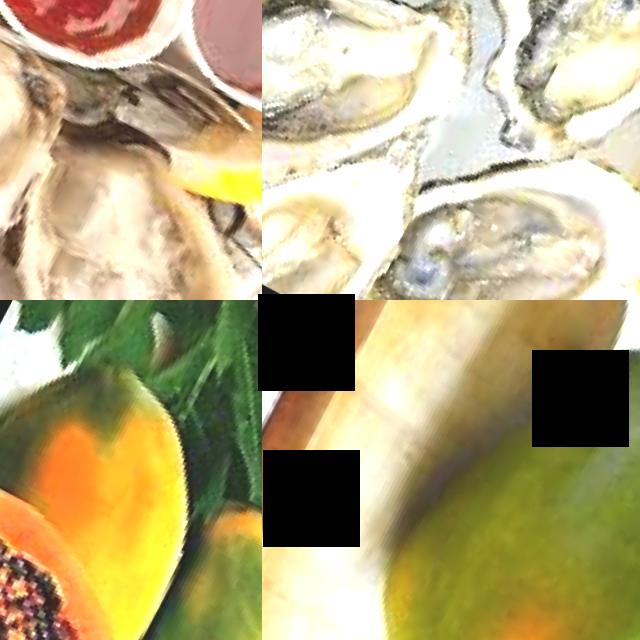oysters: (377, 78, 640, 300), (262, 0, 501, 212), (0, 121, 262, 300), (262, 85, 451, 300), (457, 0, 640, 193), (0, 0, 107, 300)
pawpaw: (320, 300, 640, 640), (0, 315, 259, 579), (0, 455, 165, 640)
